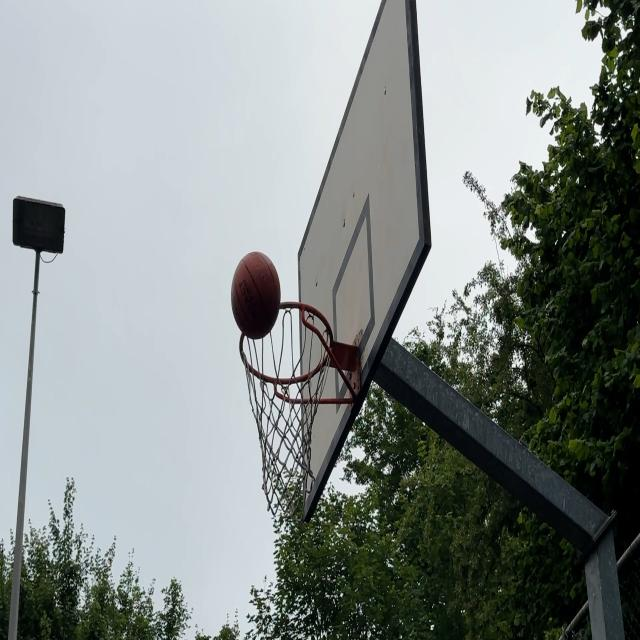rebound_hit: (230, 252, 283, 341)
